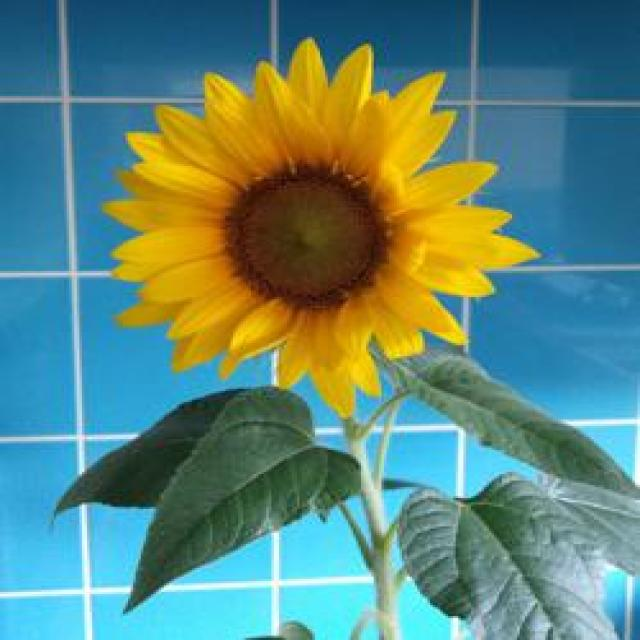sunflower: (94, 36, 546, 418)
